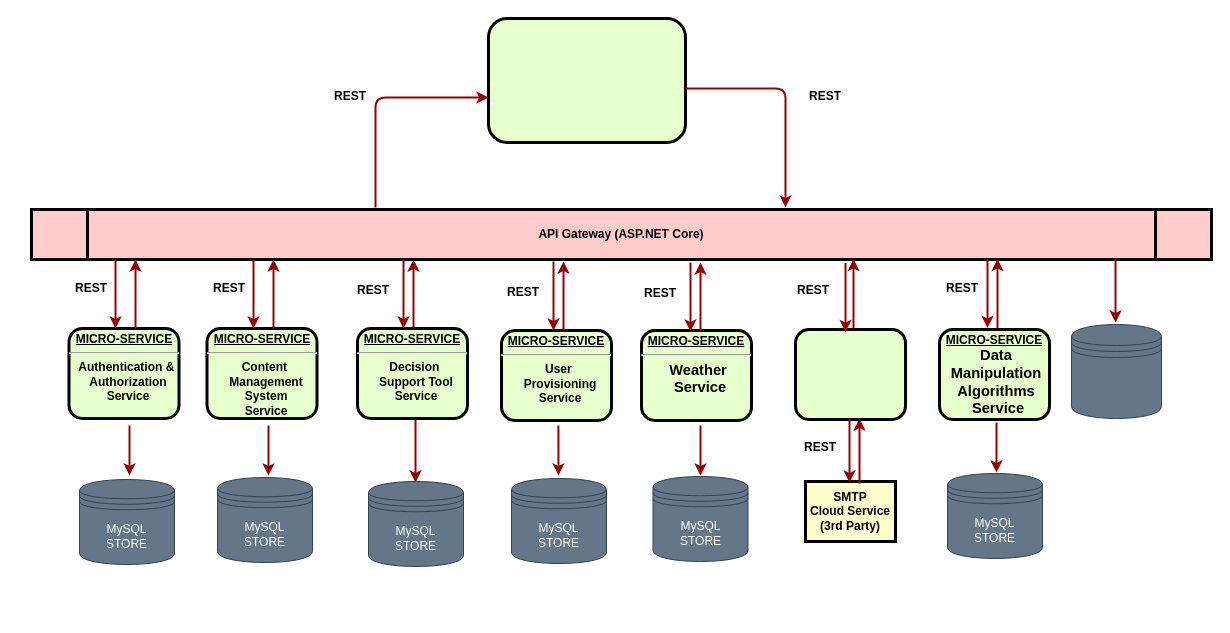
Image size: 1230x633. Some labels were removed from this diagram. The centre of each missing label's shape, as x and y in pixels:
"AUDIT MySQL STORE" goes at pixel 1116 371.
"IPM Web Portal Angular Framework CSS Bootstrap HTML5 JS Frameworks" goes at pixel 586 80.
"MICRO-SERVICE Notification Service" goes at pixel 850 374.
